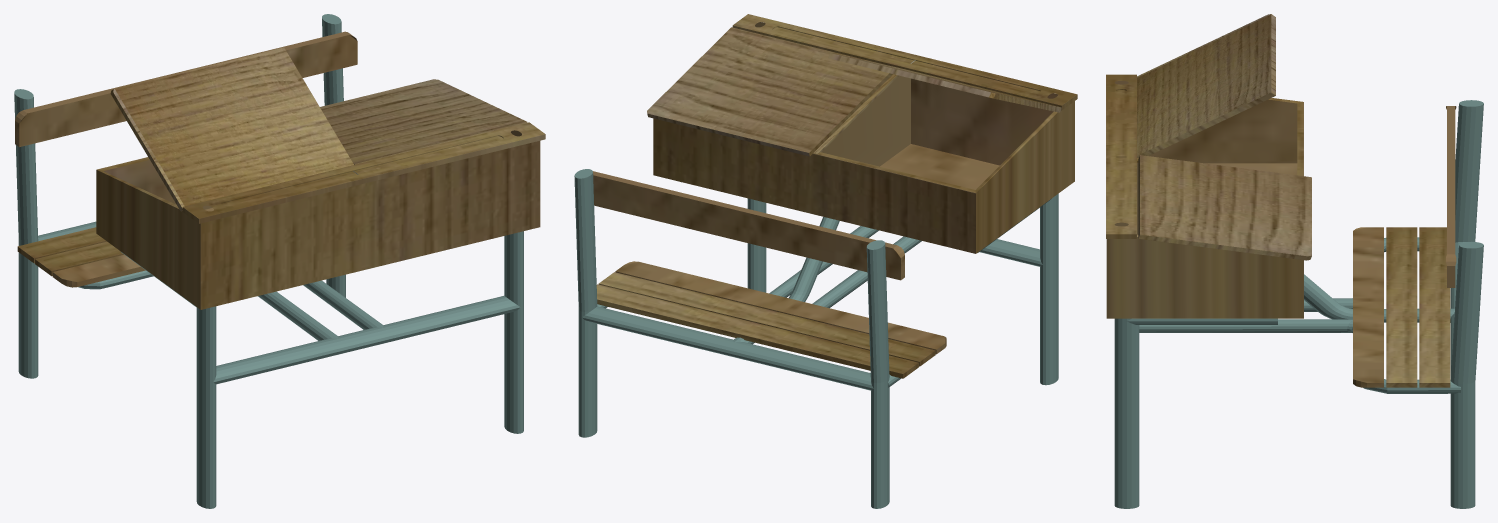
Rendered from sh-contrib-bureau-ecolier.glb.
The picture shows the model from 3 angles, left to right: view 1: azimuth 30°, elevation 25°; view 2: azimuth 150°, elevation 25°; view 3: azimuth 270°, elevation 25°; orthographic projection. The views are drawn at different scales.
Visible parts, largest first — view 1: planche_1, Armature, planche_bi; view 2: planche_1, planche_bi, Armature; view 3: planche_1, Armature, planche_bi.
Part boxes in pixels (box(x1,y1,x2,y2)): planche_1: box(17, 47, 545, 309); Armature: box(14, 14, 523, 508); planche_bi: box(15, 31, 521, 287); planche_1: box(596, 14, 1077, 378); planche_bi: box(593, 22, 1057, 354); Armature: box(574, 169, 1058, 508); planche_1: box(1106, 14, 1450, 387); Armature: box(1114, 100, 1483, 508); planche_bi: box(1114, 81, 1456, 387).
Bounding box in the file's own units: 1 × 1 × 1.
4 materials, 2 textured.
